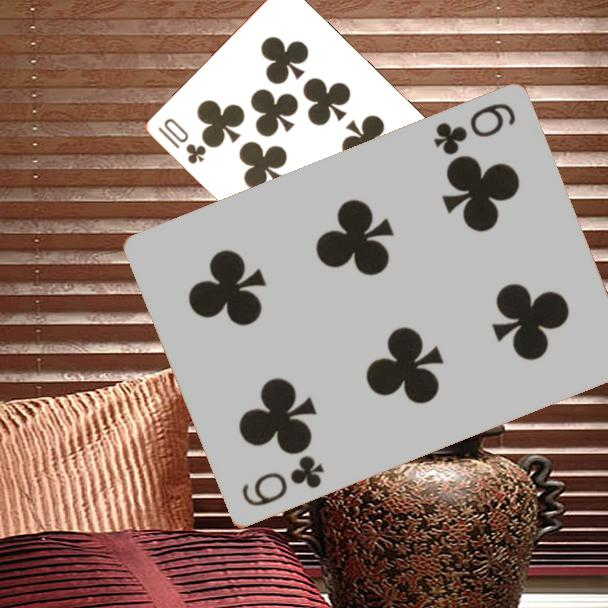c06: (430, 100, 518, 159), (238, 452, 327, 510)
c10: (154, 114, 209, 167)
